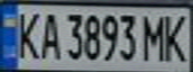3: (60, 9, 84, 61), (118, 11, 142, 62)
8: (81, 10, 103, 61)
9: (100, 11, 121, 62)
A: (33, 9, 60, 61)
K: (9, 8, 42, 61), (160, 10, 193, 63)
M: (139, 11, 172, 62)
